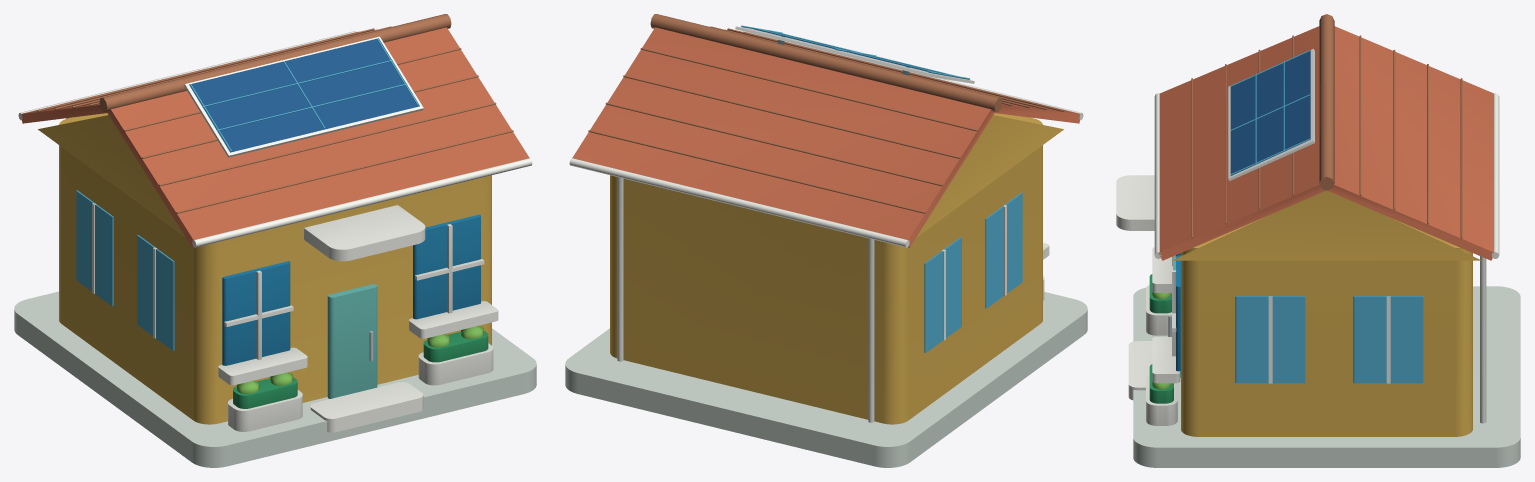
Rendered from solar-cottage.glb.
3 renders of one model, left to right at view 1: azimuth 30°, elevation 25°; view 2: azimuth 150°, elevation 25°; view 3: azimuth 270°, elevation 25°, orthographic. The views are drawn at different scales.
Parts seen in each view (by area): view 1: warm plaster house, terracotta roof slopes, rounded rain gutter, garden house foundation, photovoltaic cells, deep blue window reveal, solar cell division, rounded ridge cap, entry recessed door, planter foliage, shrub tip; view 2: warm plaster house, terracotta roof slopes, garden house foundation, rounded ridge cap, rounded rain gutter, solar cell division; view 3: warm plaster house, terracotta roof slopes, garden house foundation, solar cell division, rounded rain gutter, photovoltaic cells, rounded ridge cap, planter foliage, deep blue window reveal.
Boxes of the visible parts, box(x1,y1,x2,y2) form: warm plaster house: box(38, 113, 491, 424); terracotta roof slopes: box(21, 27, 529, 247); rounded rain gutter: box(18, 31, 532, 432); garden house foundation: box(14, 291, 536, 467); photovoltaic cells: box(189, 38, 419, 152); deep blue window reveal: box(222, 214, 480, 365); solar cell division: box(76, 38, 418, 350); rounded ridge cap: box(37, 14, 513, 213); entry recessed door: box(327, 284, 377, 398); planter foliage: box(233, 331, 488, 408); shrub tip: box(236, 326, 483, 393); warm plaster house: box(610, 113, 1063, 424); terracotta roof slopes: box(572, 27, 1080, 247); garden house foundation: box(565, 292, 1087, 467); rounded ridge cap: box(588, 14, 1064, 213); rounded rain gutter: box(569, 26, 1083, 422); solar cell division: box(741, 25, 1022, 352); warm plaster house: box(1172, 190, 1481, 436); terracotta roof slopes: box(1158, 26, 1493, 260); garden house foundation: box(1133, 286, 1520, 467); solar cell division: box(1230, 50, 1423, 383); rounded rain gutter: box(1116, 48, 1499, 425); photovoltaic cells: box(1230, 50, 1310, 175); rounded ridge cap: box(1191, 14, 1462, 238); planter foliage: box(1149, 274, 1173, 403); deep blue window reveal: box(1176, 253, 1180, 373).
Size of the model in its own units: 3.43 by 2.88 by 3.6.
